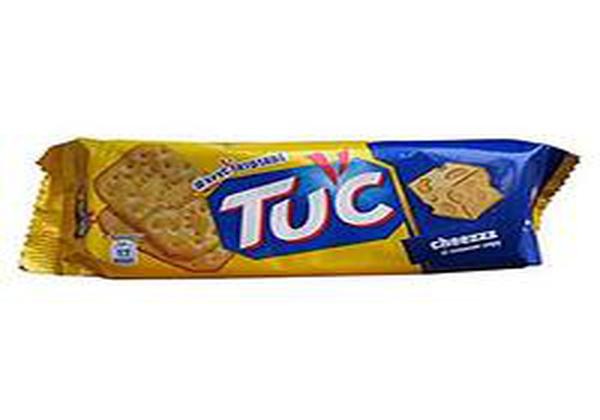crackers tuc: (83, 140, 532, 271)
